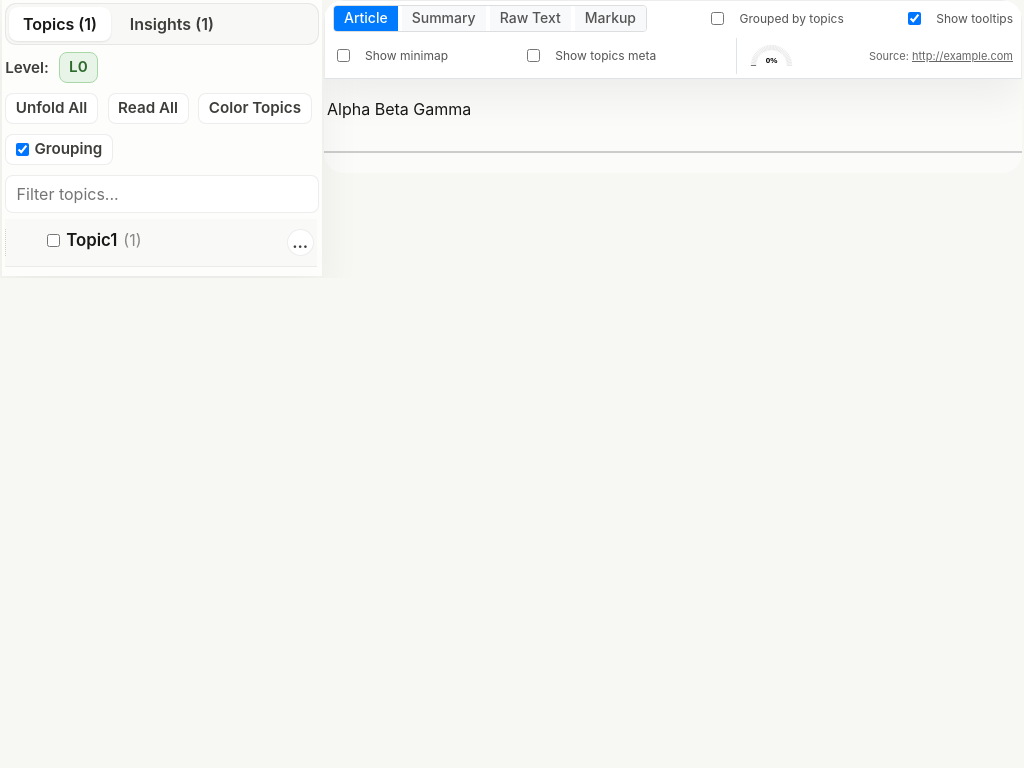
it: TextPage raw text navigation › opens TopicSentencesModal when a topic is selected from the menu
The image size is (1024, 768).
Expected: the text "Source:" is shown, [869,49,909,63]
What coordinates should you click on to do the following:
click the button "Summary"
I would click on:
 (444, 18)
Its box is [402,6,486,31].
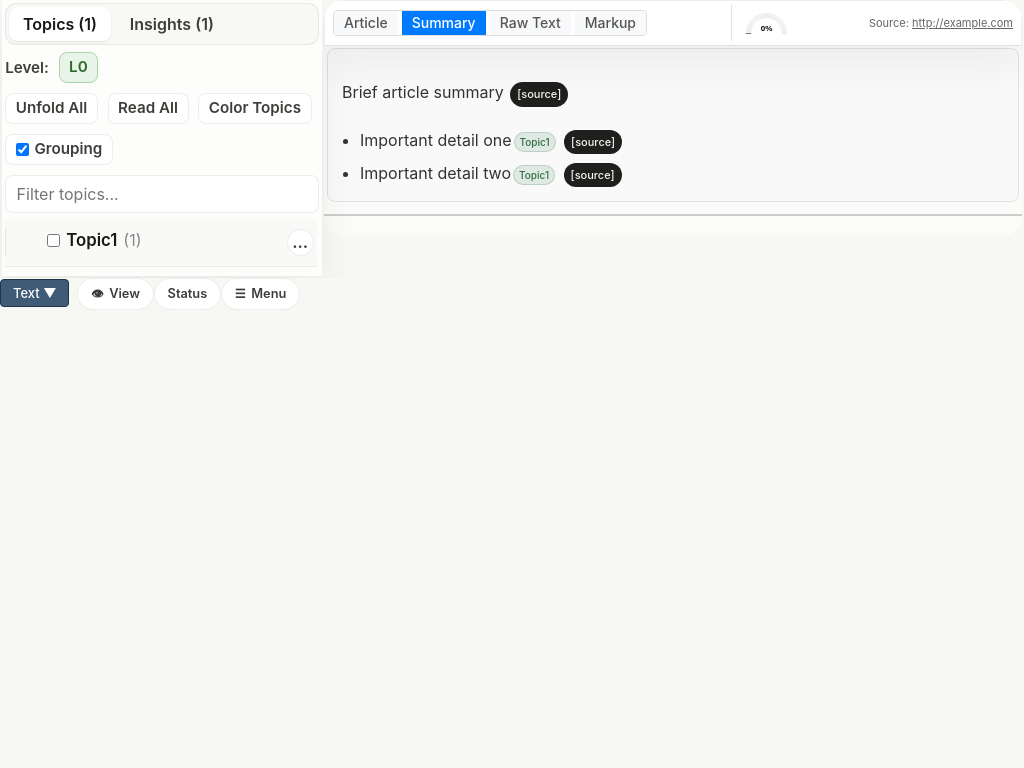
What coordinates should you click on to do the following:
click the button "[source]" next to "Brief article summary"
I would click on:
 (539, 94)
Its box is [510,82,568,106].
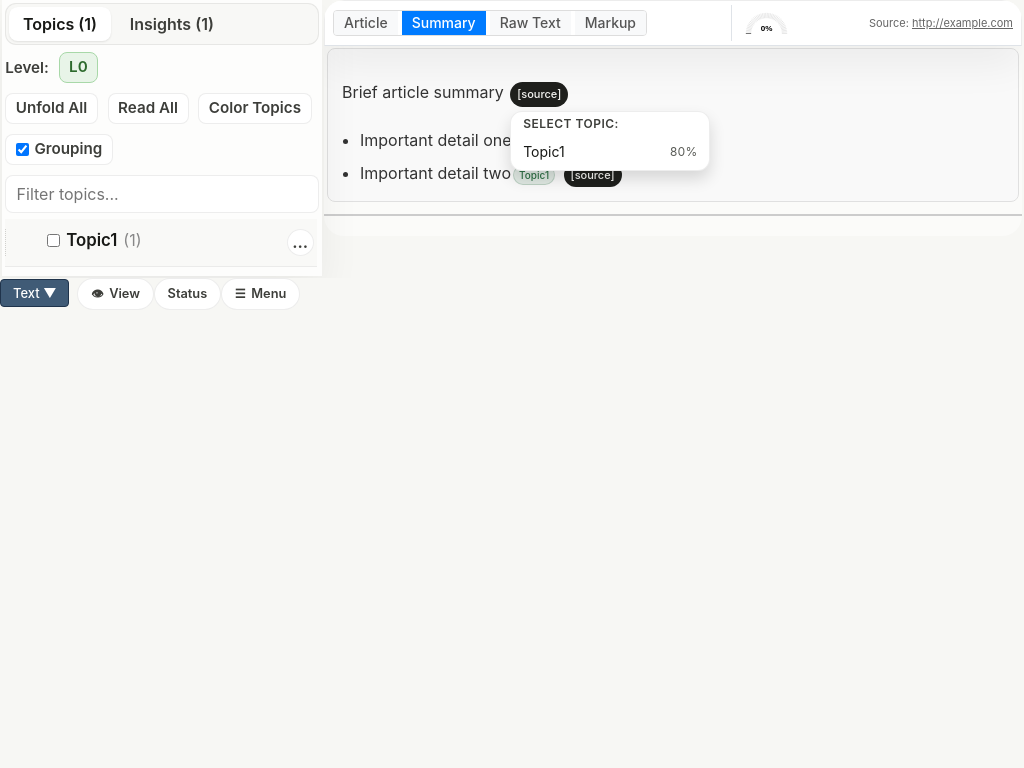
What coordinates should you click on to do the following:
click the menu item "Topic1 80%"
I would click on:
 (610, 151)
Its box is [511,136,709,166].
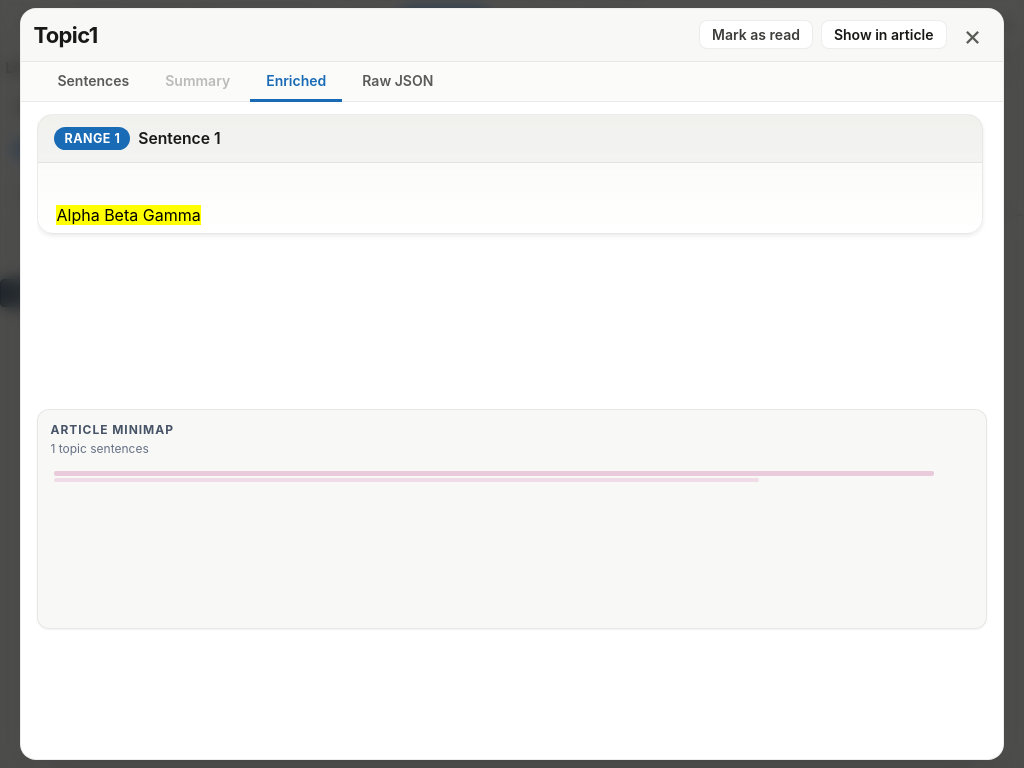
Expected: the heading "Topic1" is shown, [34,22,98,48]
Expected: the text "Select topic:" is gone
Expected: the button "Enriched" is enabled, [250,62,342,102]
